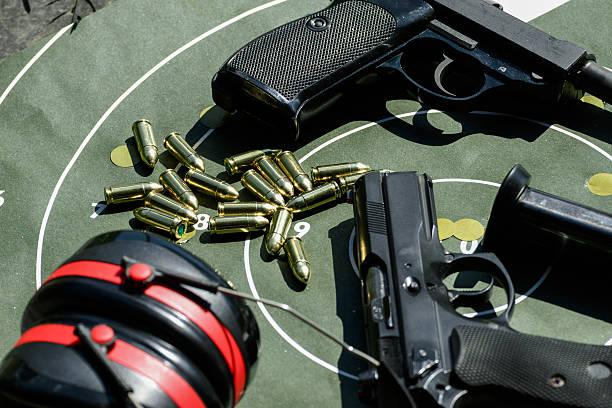weapon: (350, 165, 612, 408), (208, 0, 612, 141)
